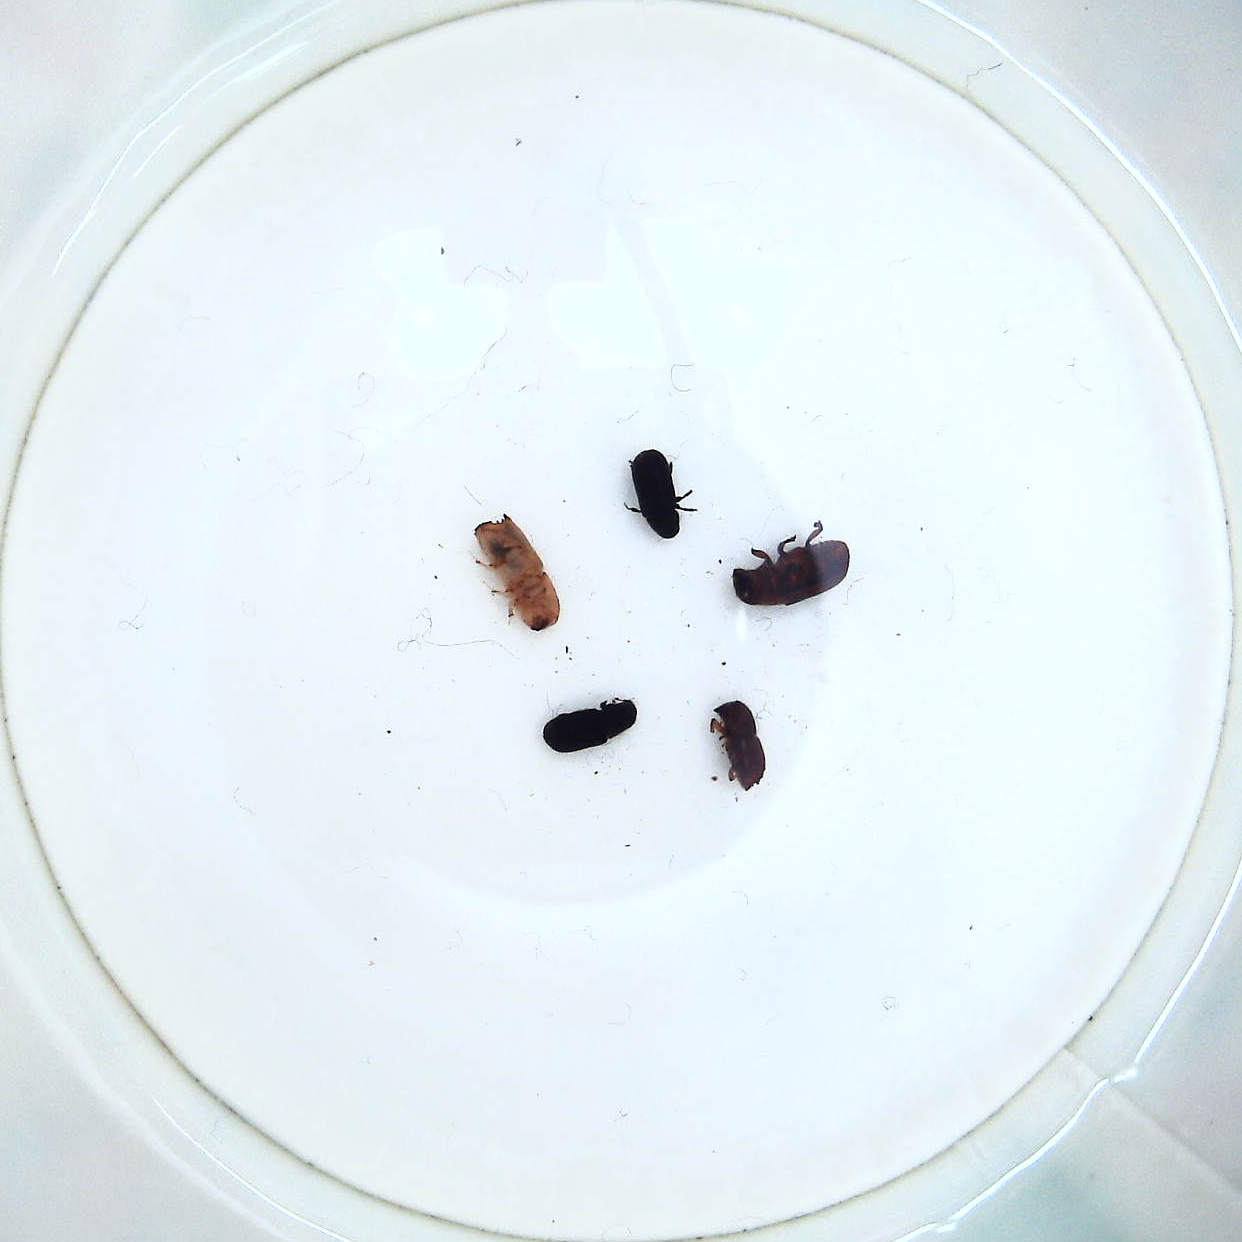Boerner: (467, 508, 568, 639)
Leconte: (732, 517, 859, 610)
armandi: (540, 698, 641, 757)
coleoptera: (623, 444, 701, 539)
linnaeus: (706, 696, 769, 796)
